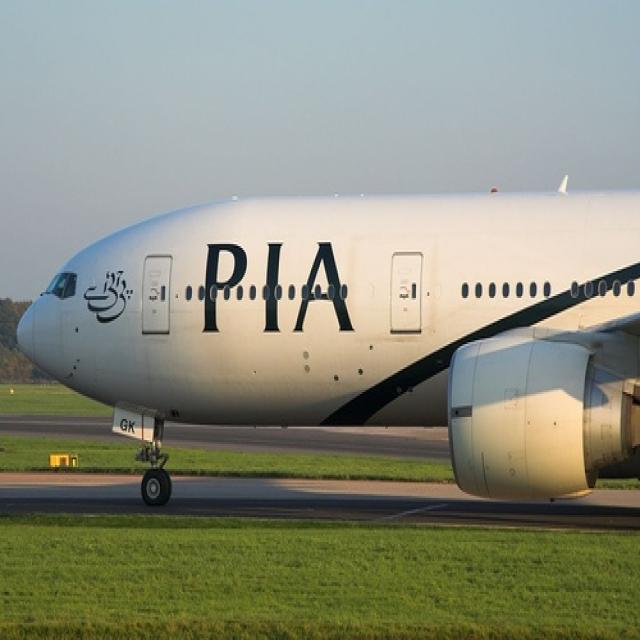aeroplane: (16, 173, 638, 507)
